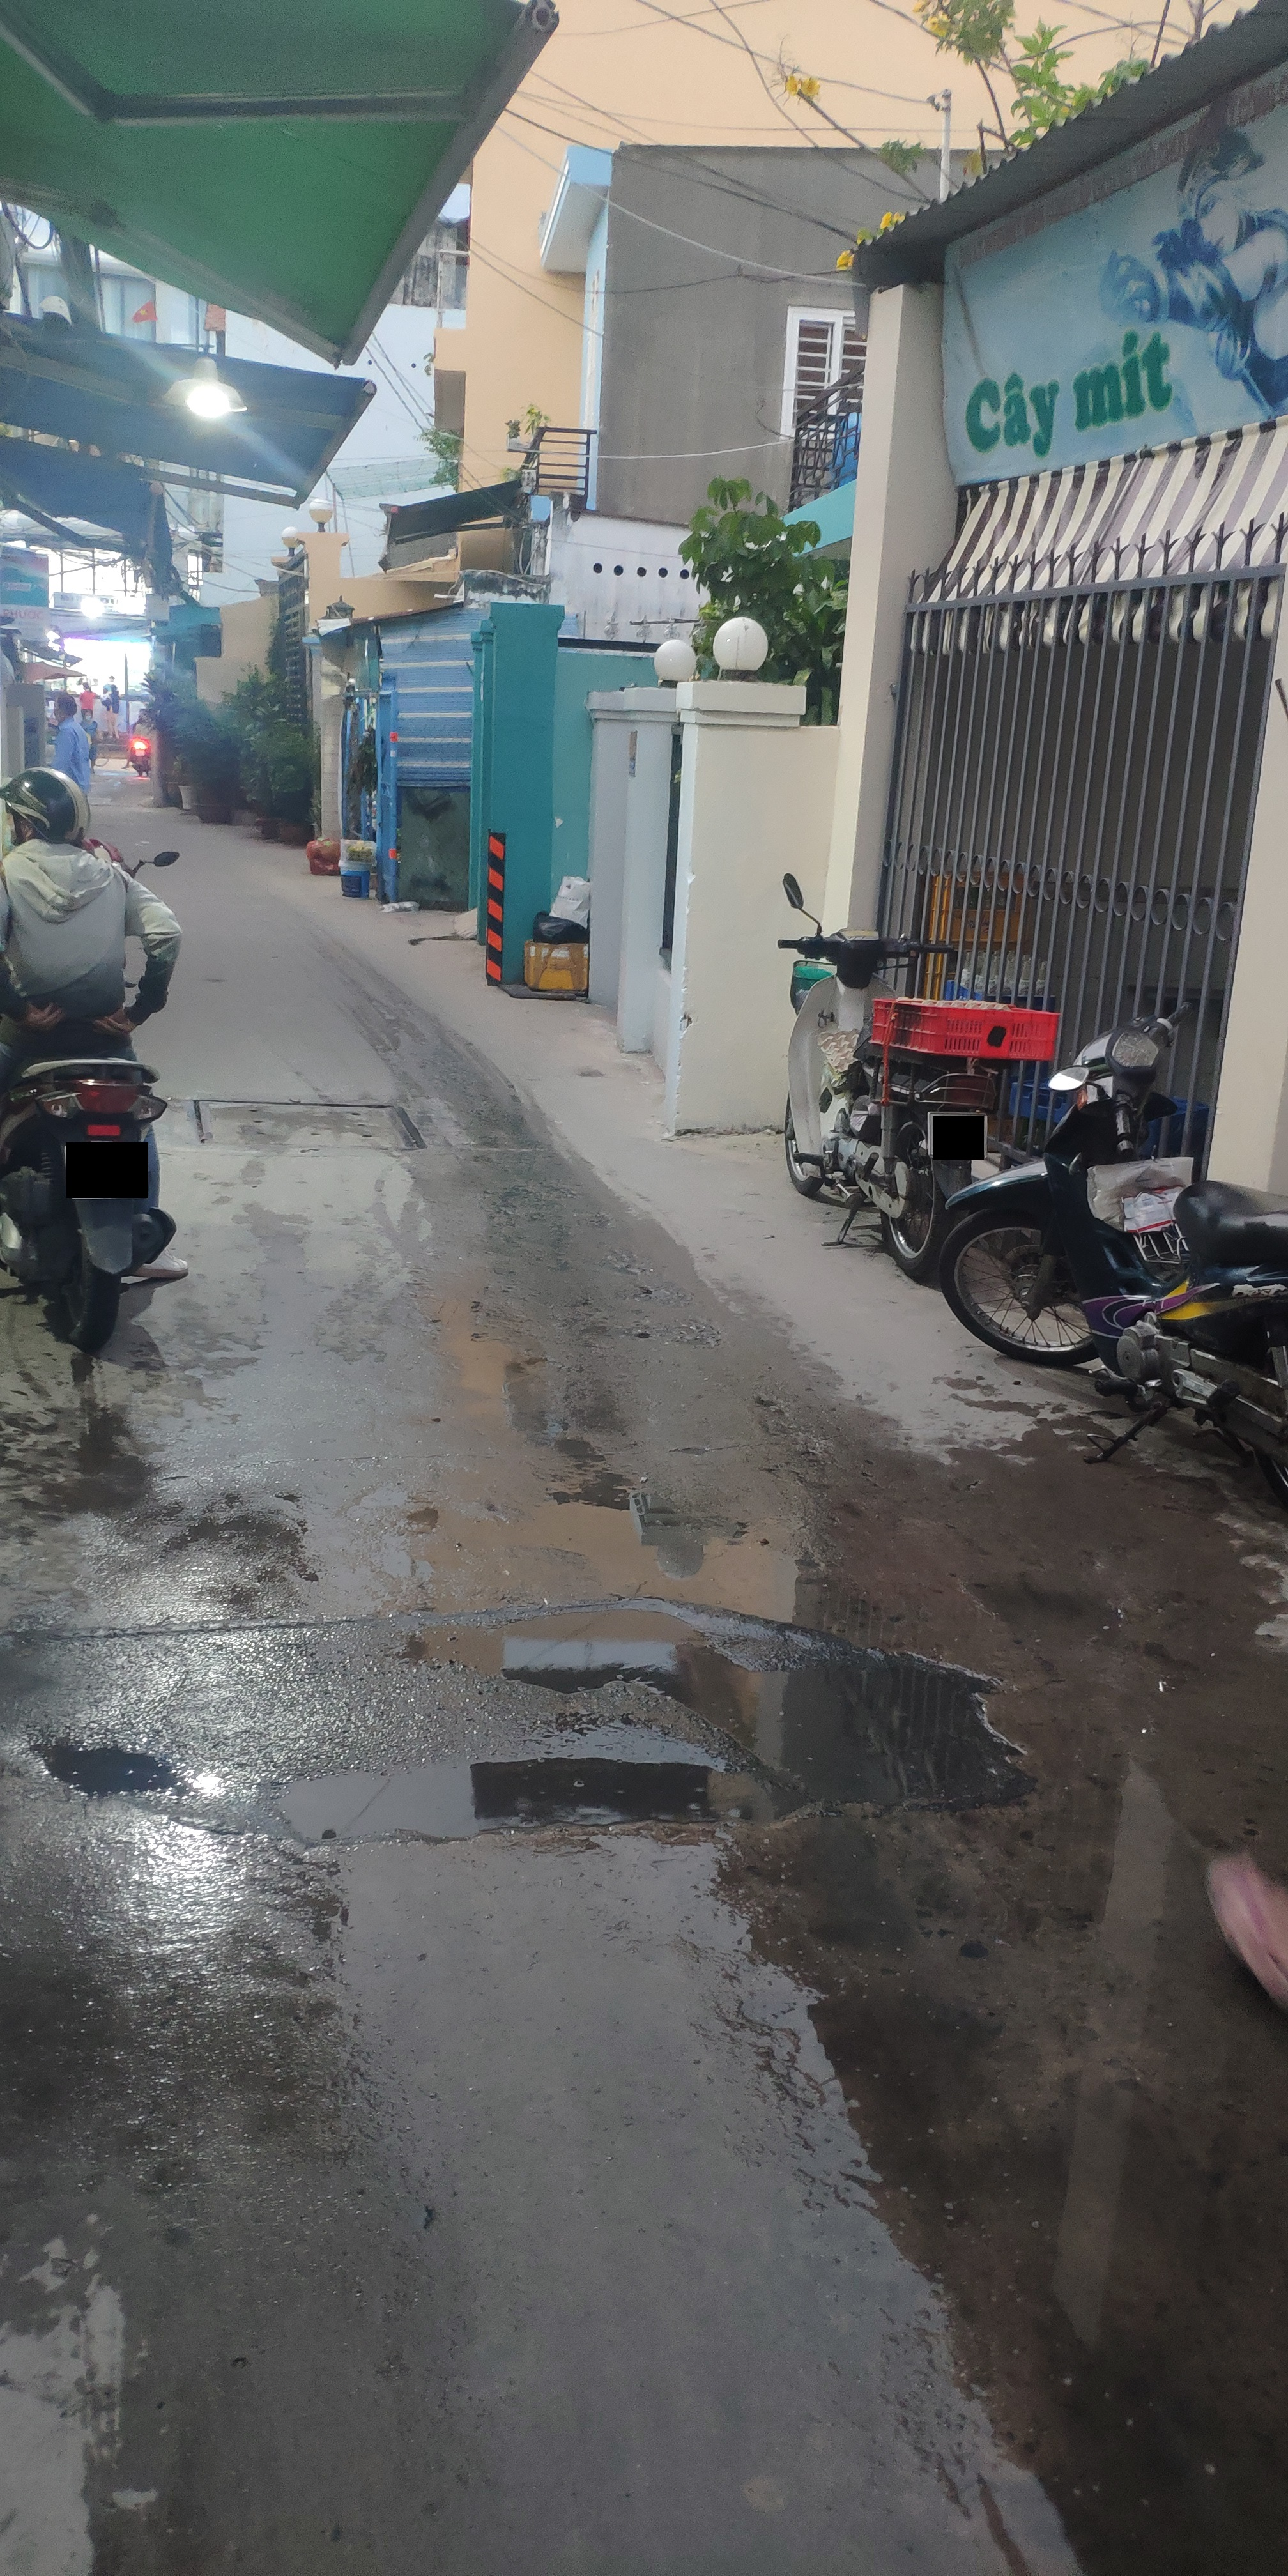hole: (274, 1598, 1030, 1856), (15, 1720, 205, 1804)
